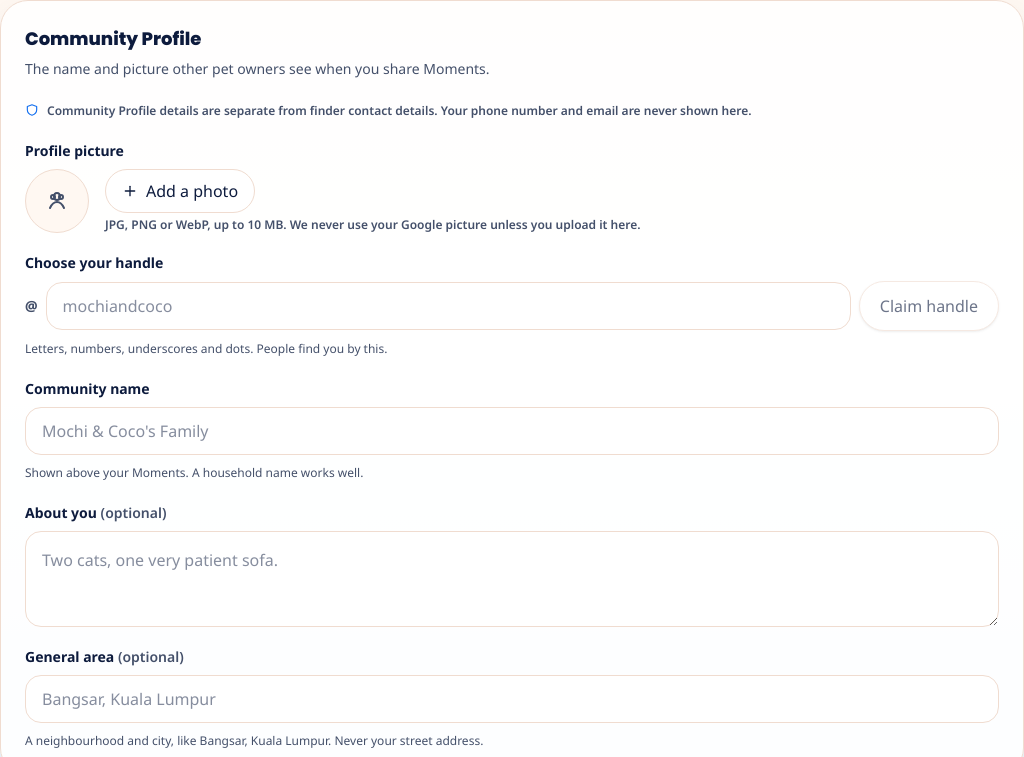
SocialProfileSettings › reports an unavailable handle without saying why
In the field with id "social-handle-input": {"x": 448, "y": 306} x1=46 y1=282 x2=851 y2=330, type "support"
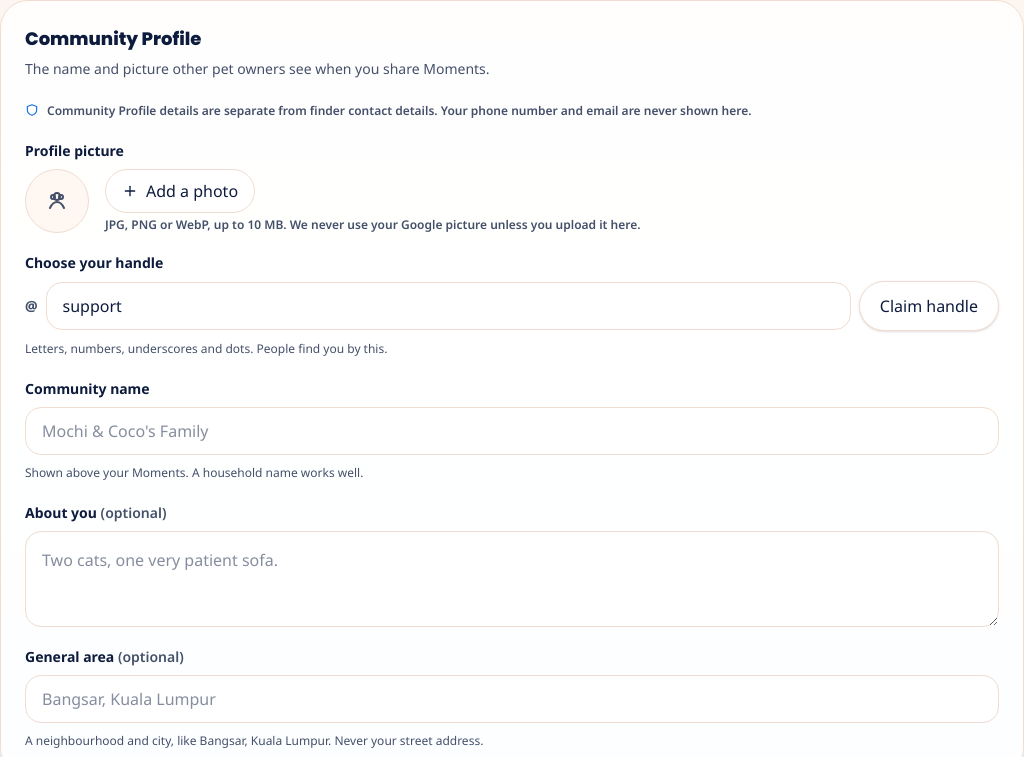
Leave the field with id "social-handle-input", box x1=46 y1=282 x2=851 y2=330
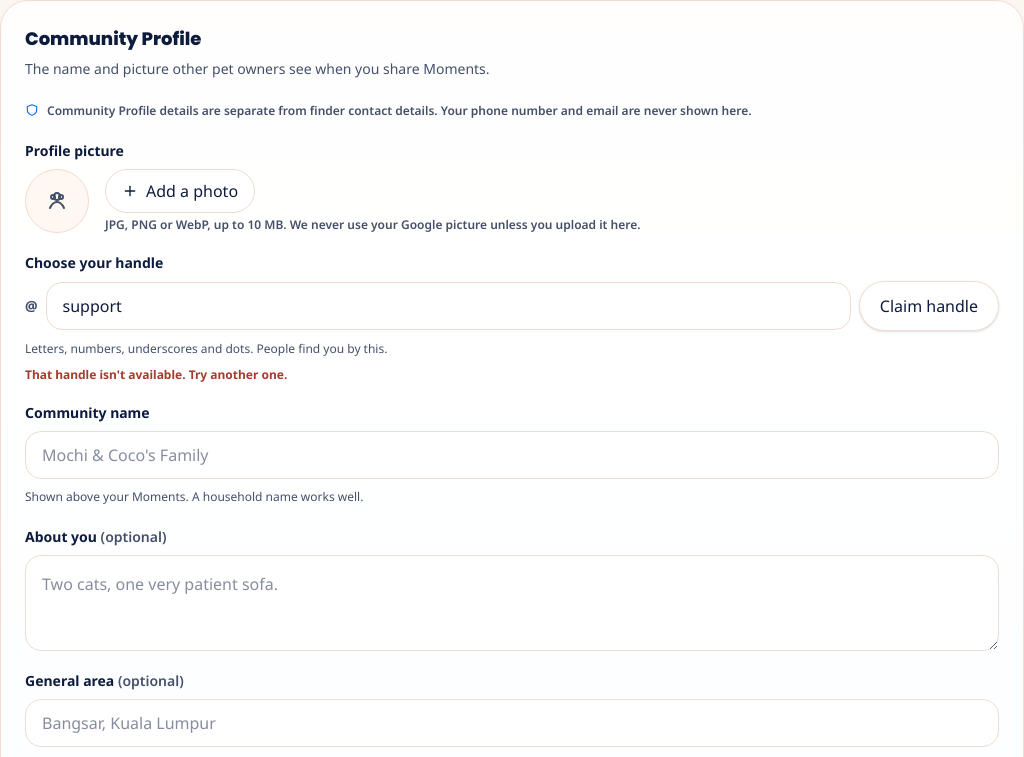
Check: the text "That handle isn't available. Try another one." is shown, box x1=25 y1=366 x2=287 y2=383
